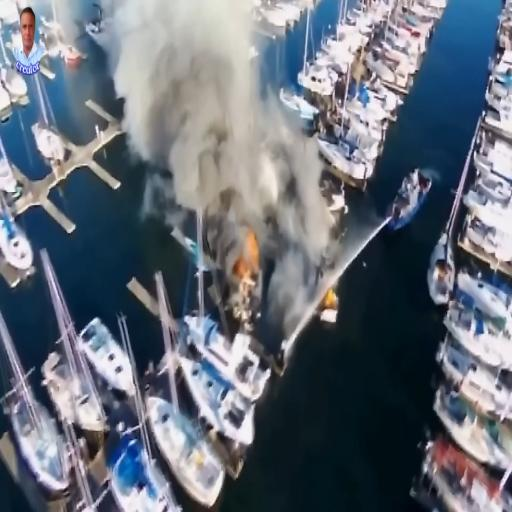smoke: (124, 1, 251, 175), (180, 87, 266, 224), (252, 148, 323, 267)
